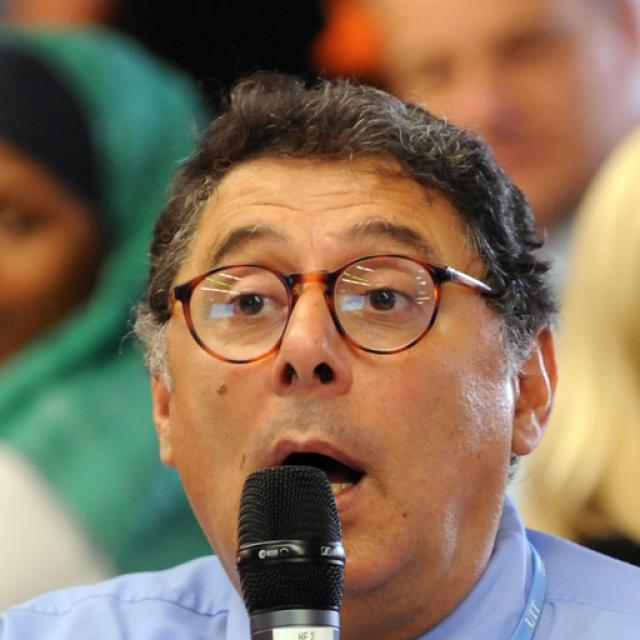surprise: (170, 152, 520, 604)
